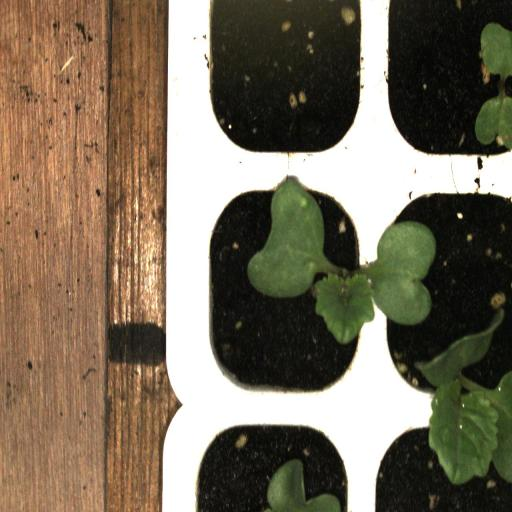noseedling: (191, 0, 377, 167)
seedling: (192, 166, 385, 407)
